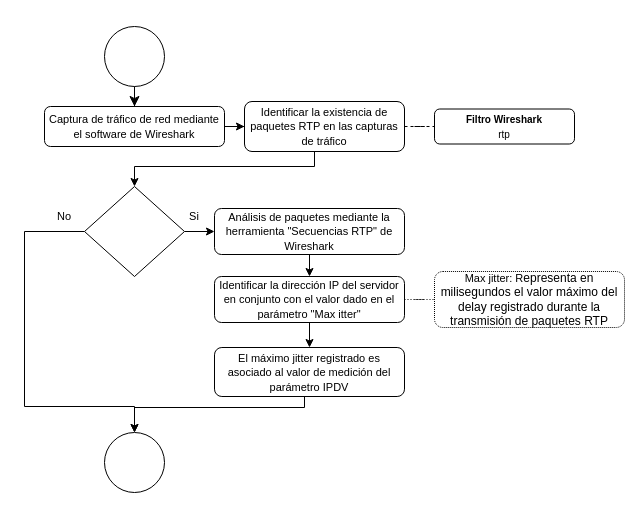
This 642x510 diagram has some shape labels left out. Each missing label, with the centre of its shape:
"Fin" goes at (134,462).
"Inicio" goes at (134,56).
"Tráfico RTP existente" goes at (134,231).
